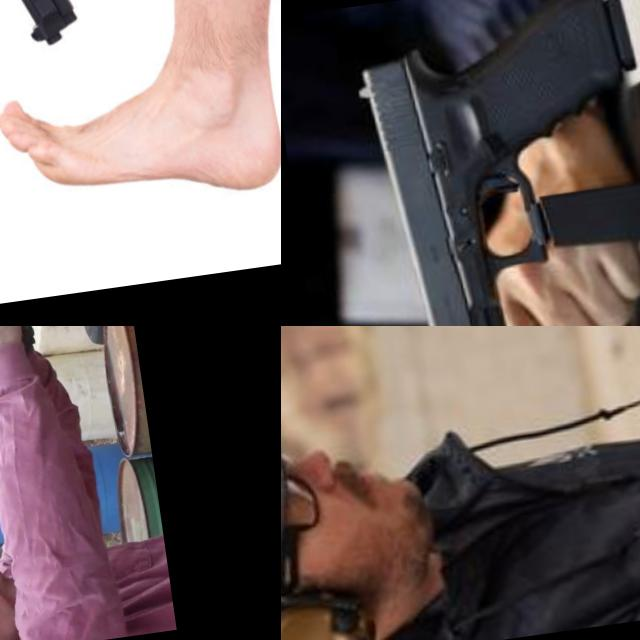handgun: (343, 0, 640, 326), (0, 0, 89, 134), (0, 326, 41, 373)
